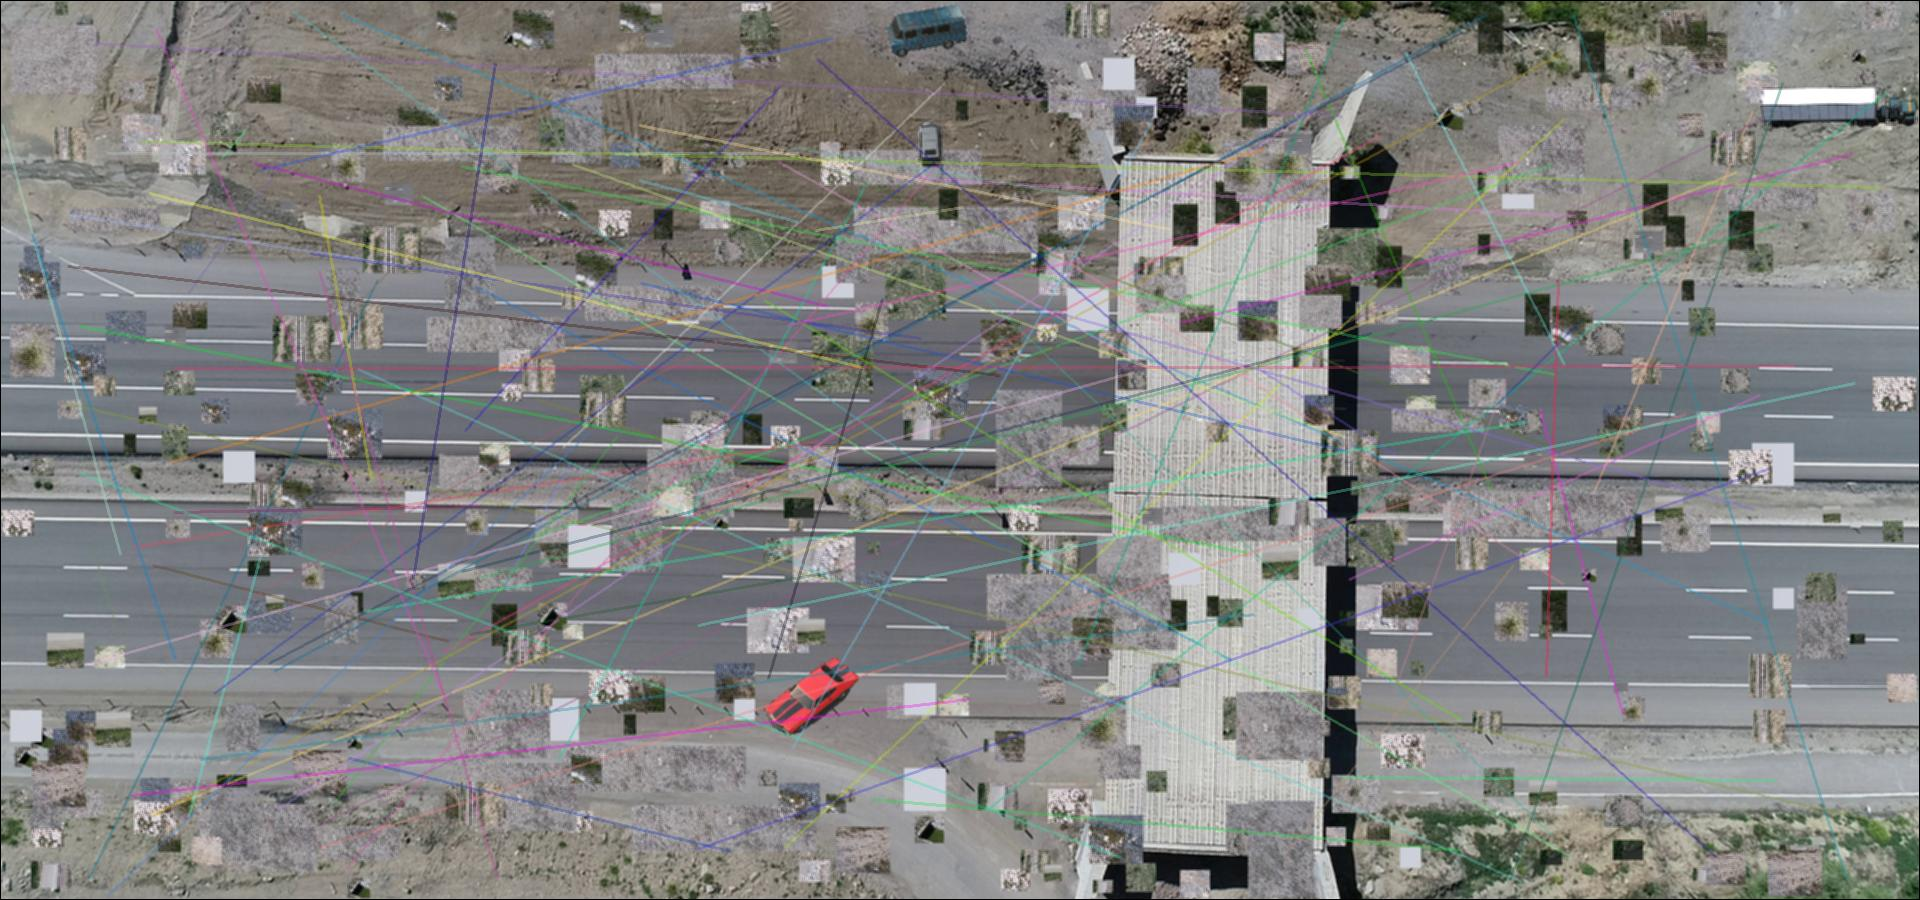arac: (764, 658, 860, 736), (1758, 86, 1918, 129), (883, 4, 973, 59), (916, 121, 944, 180)
